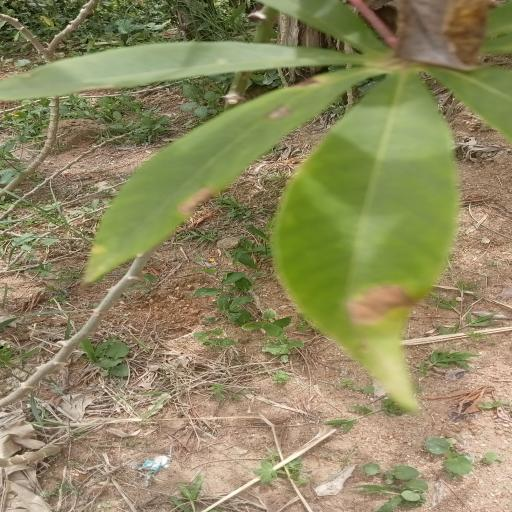Cassava_Brown_Leaf_Spot: (16, 0, 512, 395)
